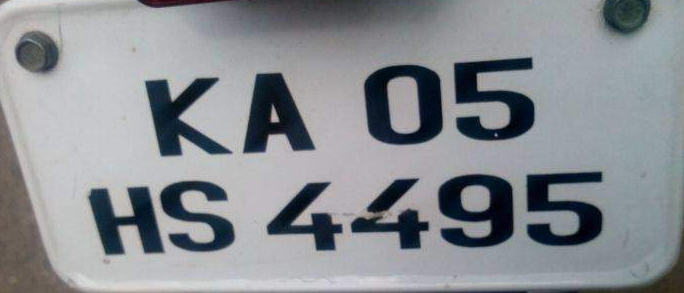0: (363, 63, 447, 146)
4: (347, 176, 433, 250), (265, 181, 348, 254)
5: (451, 54, 540, 141), (524, 170, 606, 248)
9: (437, 173, 519, 251)
A: (242, 72, 319, 154)
H: (83, 183, 168, 256)
K: (144, 74, 235, 159)
S: (158, 180, 240, 253)
